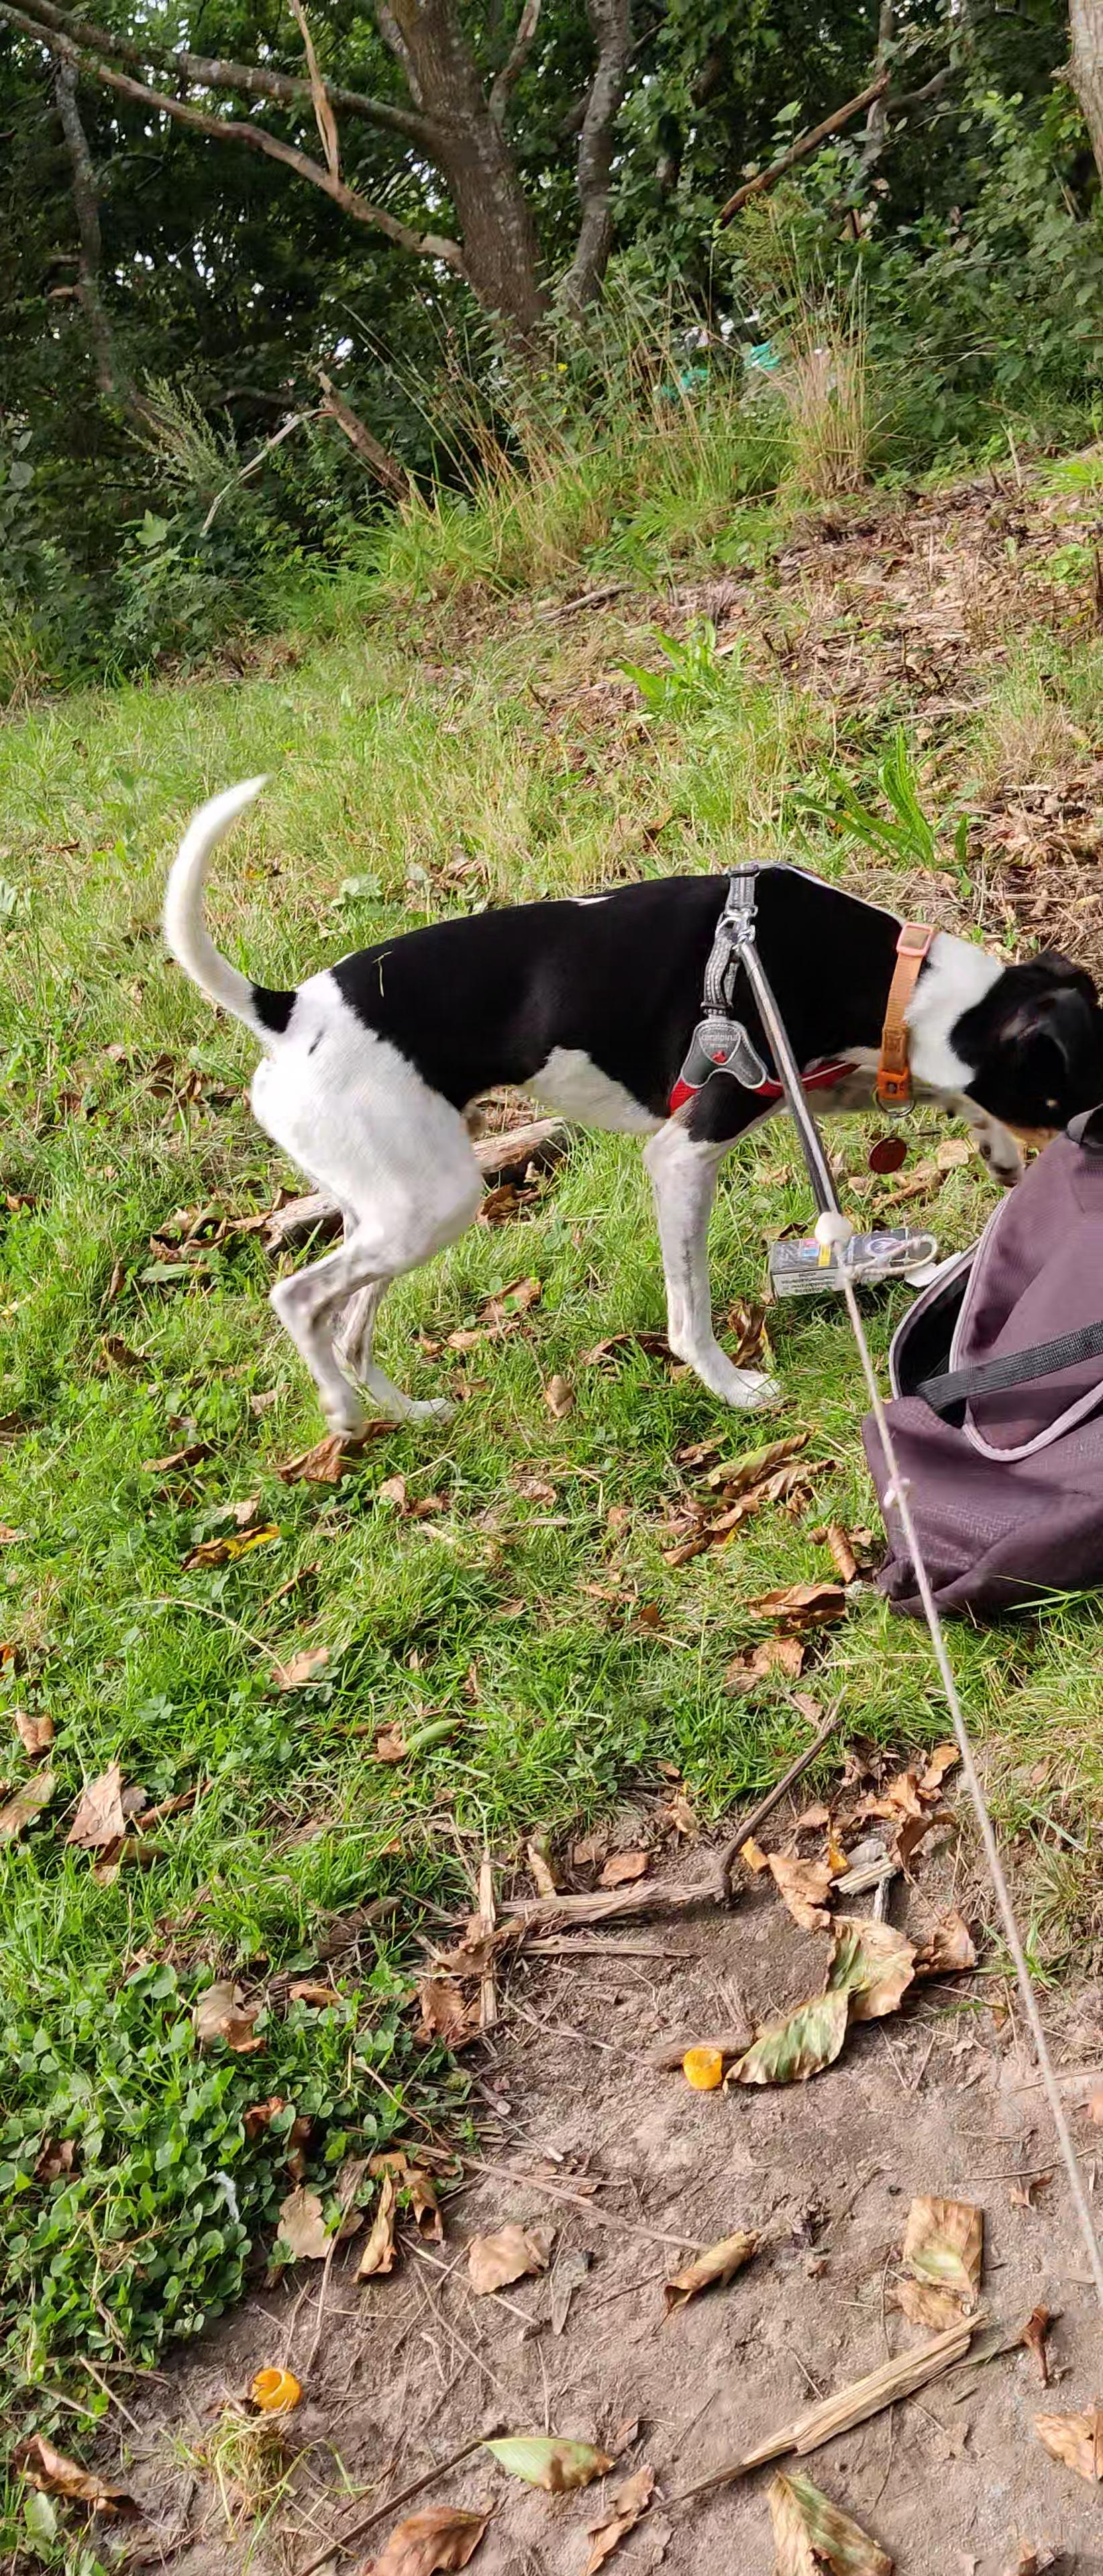Dog: (151, 767, 1103, 1439)
